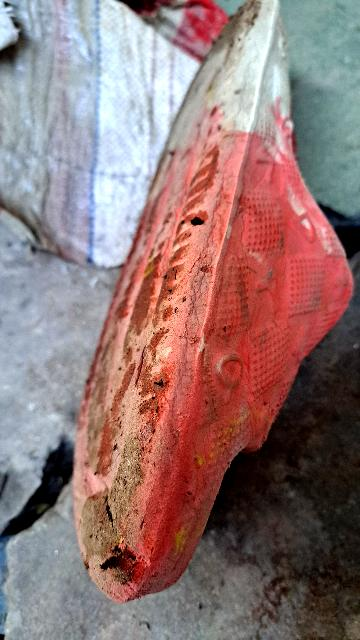sandal: (75, 8, 360, 603)
